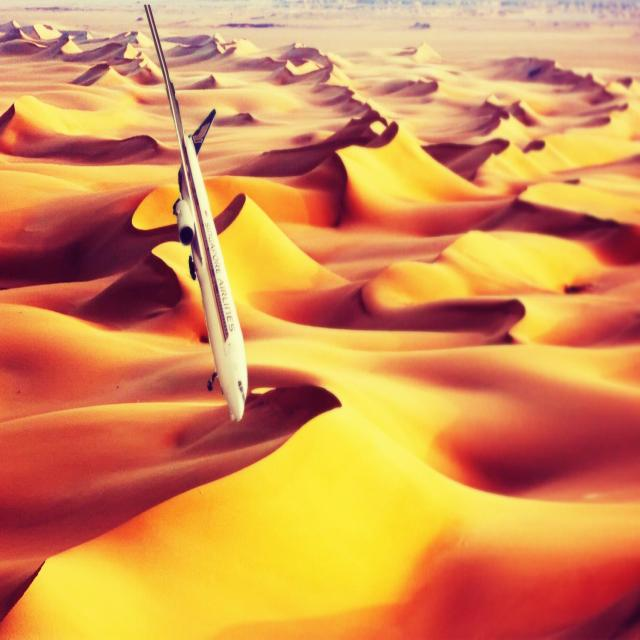airplane: (140, 2, 250, 425)
